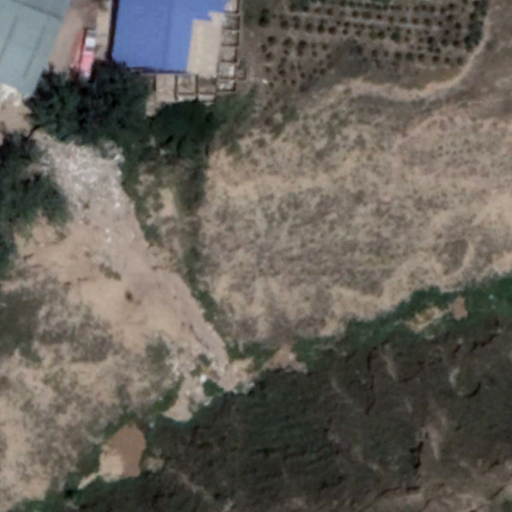msw: (38, 130, 132, 207)
